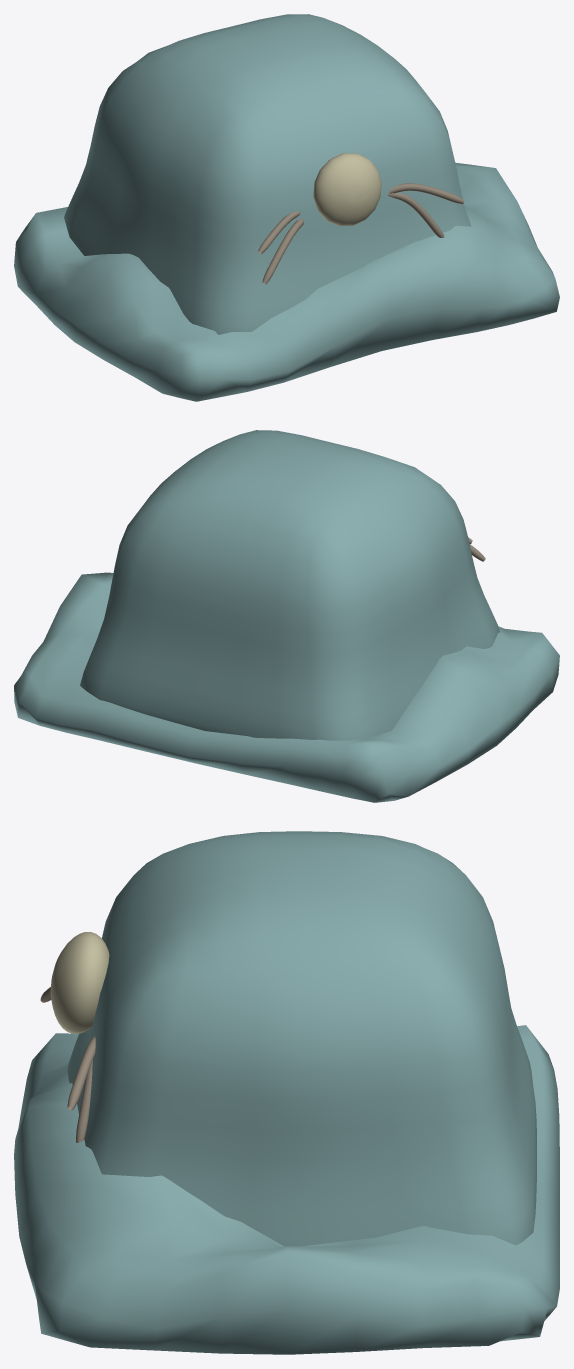
3 views of the same model, one above another, from view 1: azimuth 30°, elevation 25°; view 2: azimuth 150°, elevation 25°; view 3: azimuth 270°, elevation 25° (orthographic). The views are drawn at different scales.
Visible parts, largest first — view 1: polySurface13; view 2: polySurface13; view 3: polySurface13.
Part boxes in pixels (<box>): polySurface13: <box>14,14,559,401</box>; polySurface13: <box>14,430,559,802</box>; polySurface13: <box>14,831,559,1354</box>.
Size of the model in its own units: 14.1 by 7.89 by 11.09.
